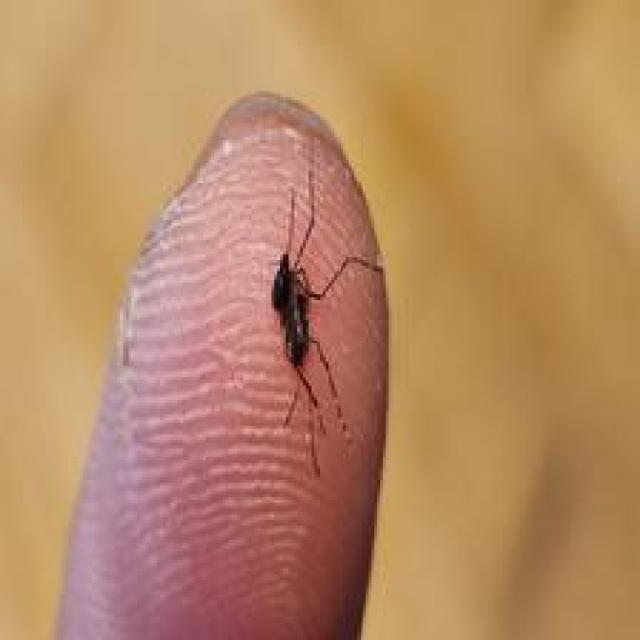Aedes albopictus: (268, 167, 386, 476)
